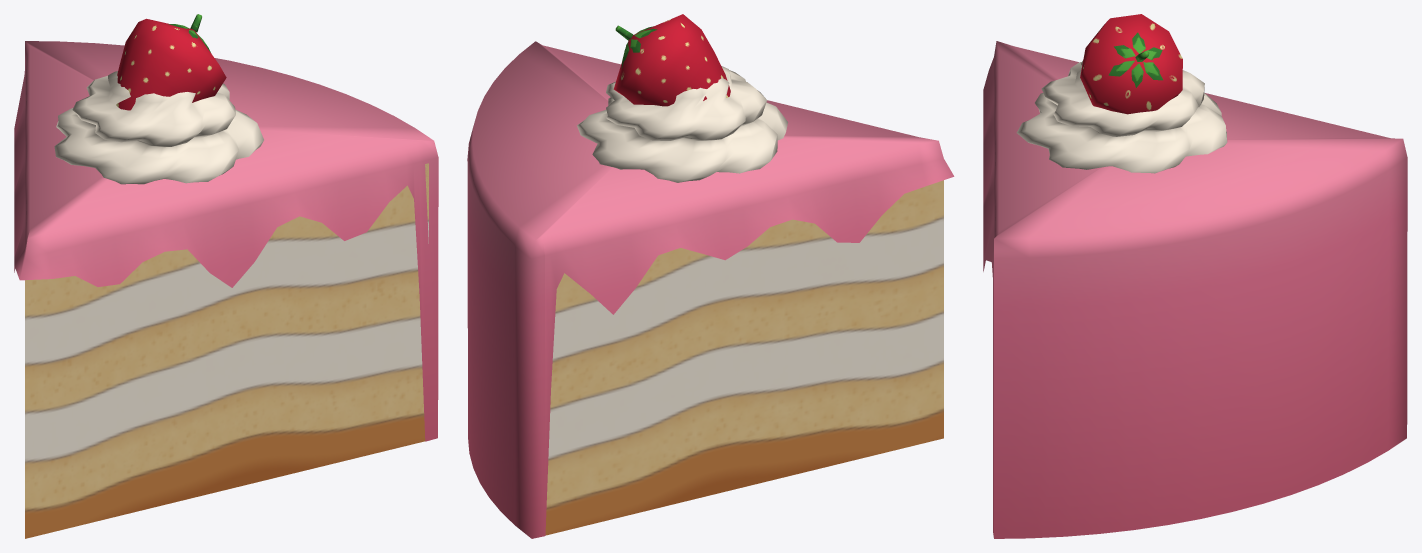
Rendered from strawberry_slice.glb.
The picture shows the model from 3 angles, left to right: view 1: azimuth 30°, elevation 25°; view 2: azimuth 150°, elevation 25°; view 3: azimuth 270°, elevation 25°; orthographic projection.
Parts seen in each view (by area): view 1: StrawberrySlice; view 2: StrawberrySlice; view 3: StrawberrySlice.
Part boxes in pixels (x1,y1,x2,y2): StrawberrySlice: (14,14,438,538); StrawberrySlice: (467,14,954,538); StrawberrySlice: (983,14,1407,538).
Size of the model in its own units: 1.04 by 0.9905 by 0.9096.
1 material, 1 textured.
